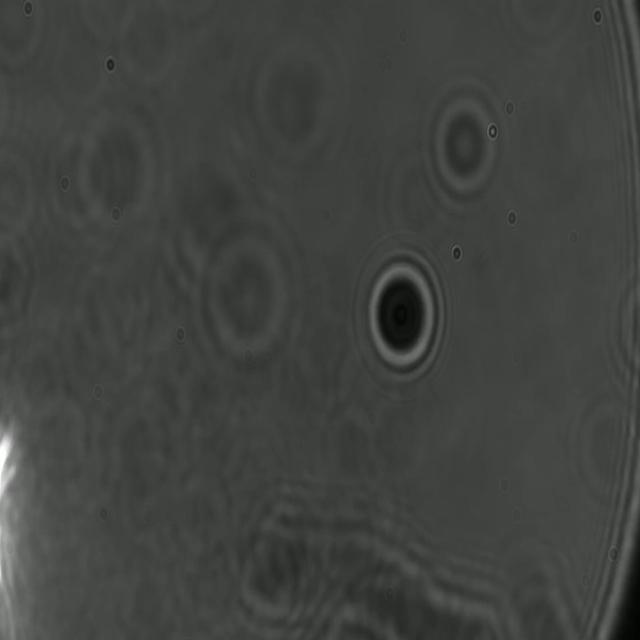DCELL: (358, 244, 447, 381)
